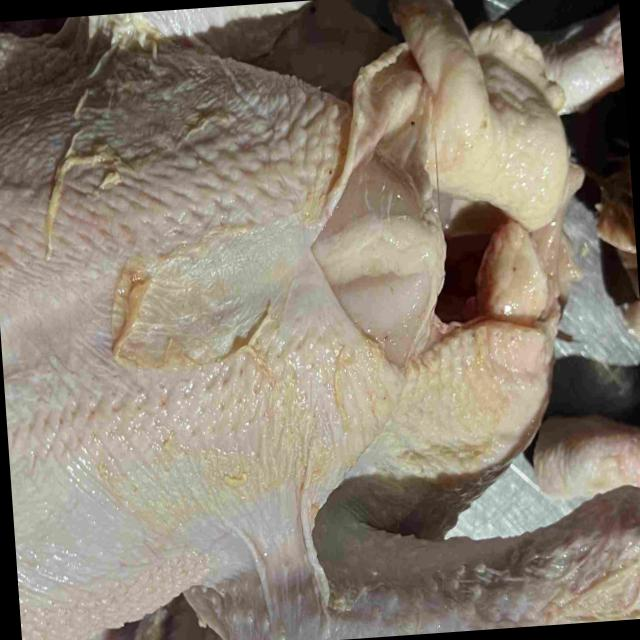breast: (0, 54, 440, 640)
leg: (186, 491, 640, 640)
